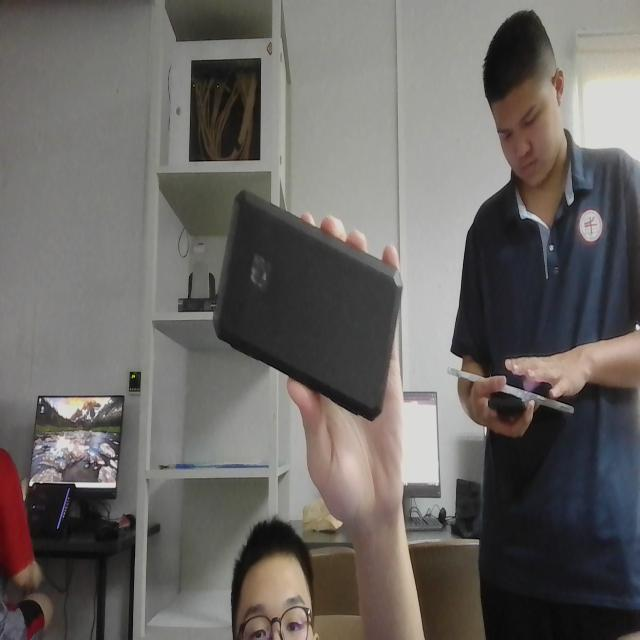power bank: (206, 180, 404, 436)
